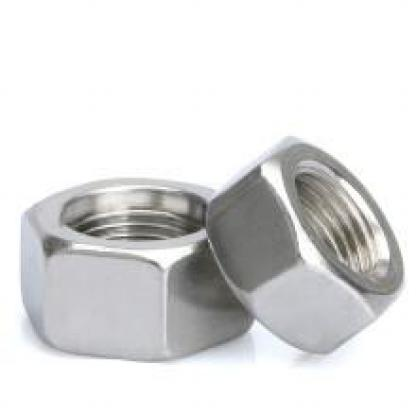FOD: (202, 130, 406, 356), (19, 172, 257, 365)
